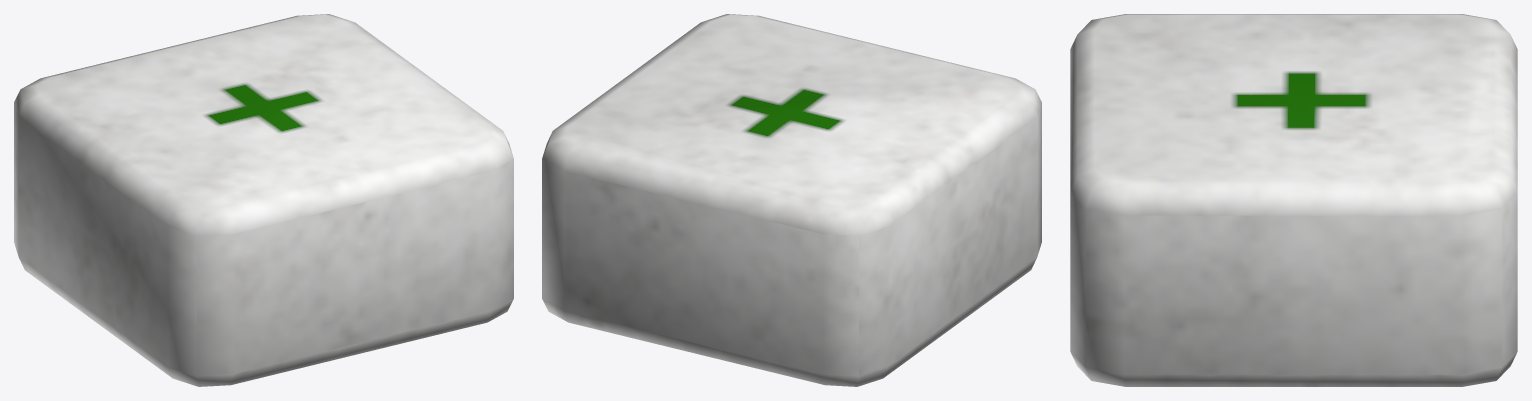
File: Health Pack.fbx
The picture shows the model from 3 angles, left to right: view 1: azimuth 30°, elevation 25°; view 2: azimuth 150°, elevation 25°; view 3: azimuth 270°, elevation 25°; orthographic projection. The views are drawn at different scales.
Parts seen in each view (by area): view 1: Cube; view 2: Cube; view 3: Cube.
Boxes of the visible parts, x1,y1,x2,y2 form: Cube: [14, 14, 513, 386]; Cube: [542, 14, 1041, 386]; Cube: [1070, 14, 1517, 386].
Bounding box in the file's own units: 40 × 20 × 40.
